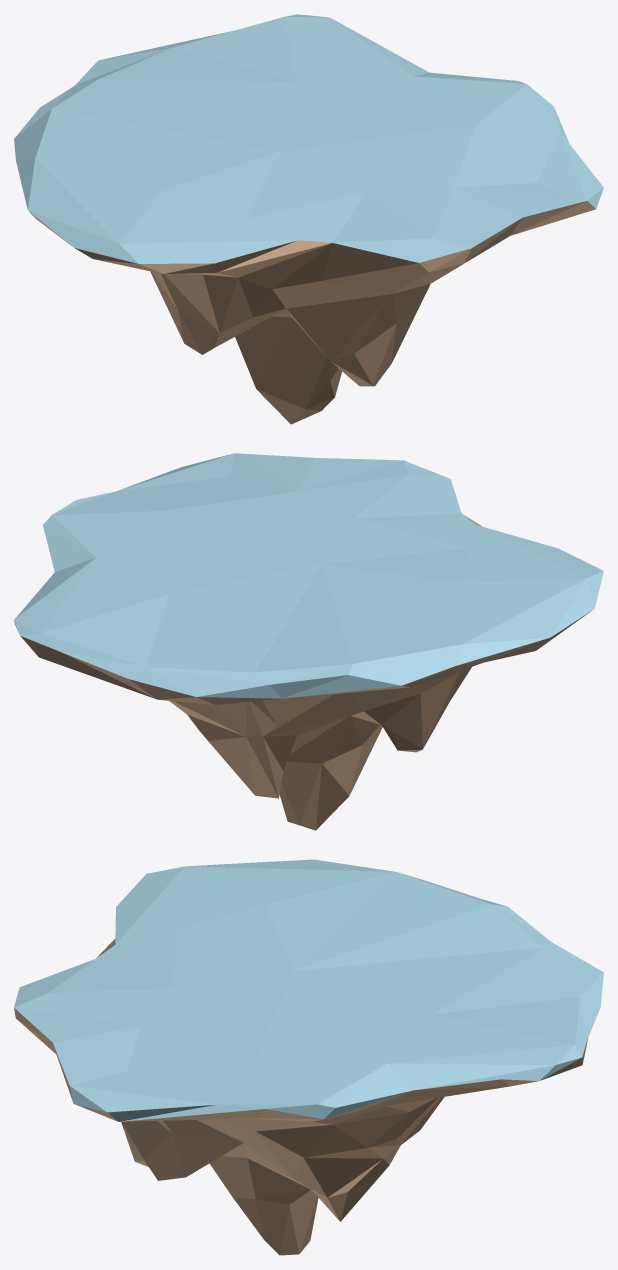
Rendered from island4_Blue.fbx.
3 renders of one model, top to bottom at view 1: azimuth 30°, elevation 25°; view 2: azimuth 150°, elevation 25°; view 3: azimuth 270°, elevation 25°, orthographic. The views are drawn at different scales.
Visible parts, largest first — view 1: island4; view 2: island4; view 3: island4.
Part boxes in pixels (x1=…): island4: x1=14, y1=14, x2=603, y2=424; island4: x1=14, y1=453, x2=603, y2=830; island4: x1=14, y1=859, x2=603, y2=1255.
Bounding box in the file's own units: 34.21 × 18.01 × 34.37.
